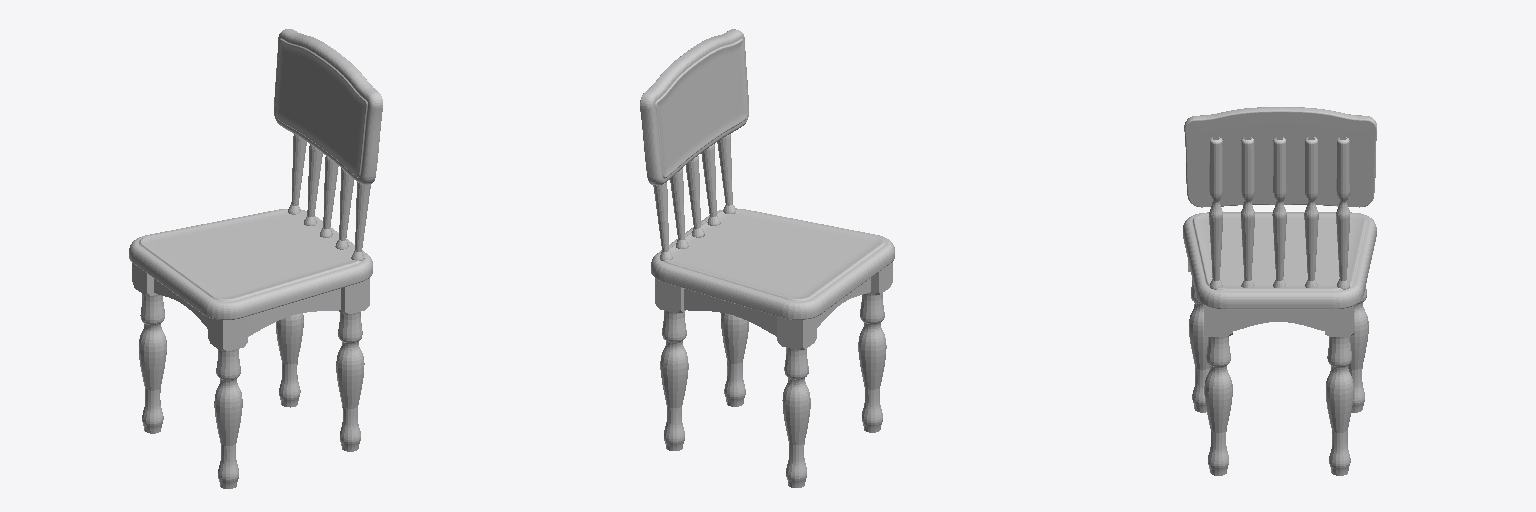
File: children_chair.obj
3 renders of one model, left to right at view 1: azimuth 30°, elevation 25°; view 2: azimuth 150°, elevation 25°; view 3: azimuth 270°, elevation 25°, orthographic.
Visible parts, largest first — view 1: Rectangle567, Rectangle572, Line198, Line197, Line200, Line199, Rectangle568, Box519, Line202, Line203, Box521, Line201 (+2 smaller); view 2: Rectangle567, Rectangle572, Line199, Line198, Line197, Line200, Rectangle569, Box520, Line204, Line203, Line205, Line201 (+2 smaller); view 3: Rectangle572, Rectangle567, Line199, Line200, Line204, Line205, Line201, Line203, Line202, Line197, Rectangle571, Line198 (+2 smaller).
Part boxes in pixels (x1,y1,x2,y2): Rectangle567: (129,209,372,319); Rectangle572: (274,29,382,184); Line198: (139,294,166,433); Line197: (214,349,242,488); Line200: (336,312,364,451); Line199: (276,313,303,407); Rectangle568: (248,288,340,336); Box519: (208,316,247,351); Line202: (304,144,322,225); Line203: (320,156,338,237); Box521: (339,278,369,313); Line201: (288,134,306,214); Rectangle567: (651,208,894,319); Rectangle572: (640,29,748,185); Line199: (660,311,688,450); Line198: (782,348,810,487); Line197: (858,293,886,432); Line200: (721,313,748,406); Rectangle569: (684,289,776,336); Box520: (777,316,816,350); Line204: (701,144,720,225); Line203: (686,156,704,237); Line205: (717,134,735,213); Line201: (653,182,672,260); Rectangle572: (1184,107,1376,207); Rectangle567: (1183,212,1376,309); Line199: (1326,337,1353,475); Line200: (1204,337,1232,475); Line204: (1241,137,1254,287); Line205: (1209,137,1222,289); Line201: (1336,137,1349,289); Line203: (1272,137,1286,287); Line202: (1304,137,1318,287); Line197: (1189,280,1209,412); Rectangle571: (1233,310,1324,330); Line198: (1348,287,1368,412).
Bounding box in the file's own units: 10.93 × 21.92 × 10.44.